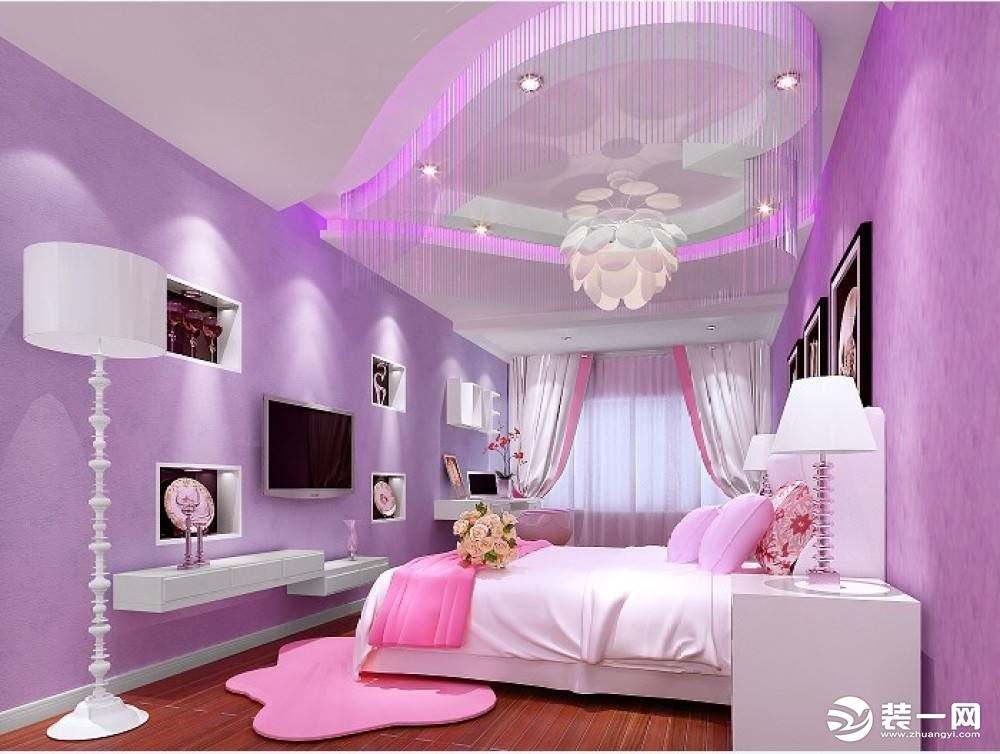床: (349, 543, 791, 709)
枕头: (656, 491, 816, 574)
灯: (20, 245, 168, 743), (769, 372, 890, 595), (553, 170, 683, 318), (742, 434, 784, 485), (770, 65, 810, 97), (417, 152, 446, 184), (511, 73, 546, 97), (753, 198, 780, 221), (470, 221, 498, 240)
